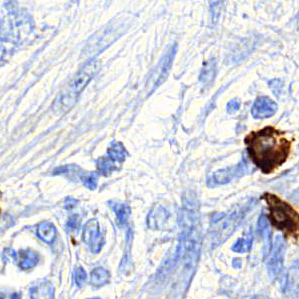Lymphocyte: (243, 125, 295, 176)
